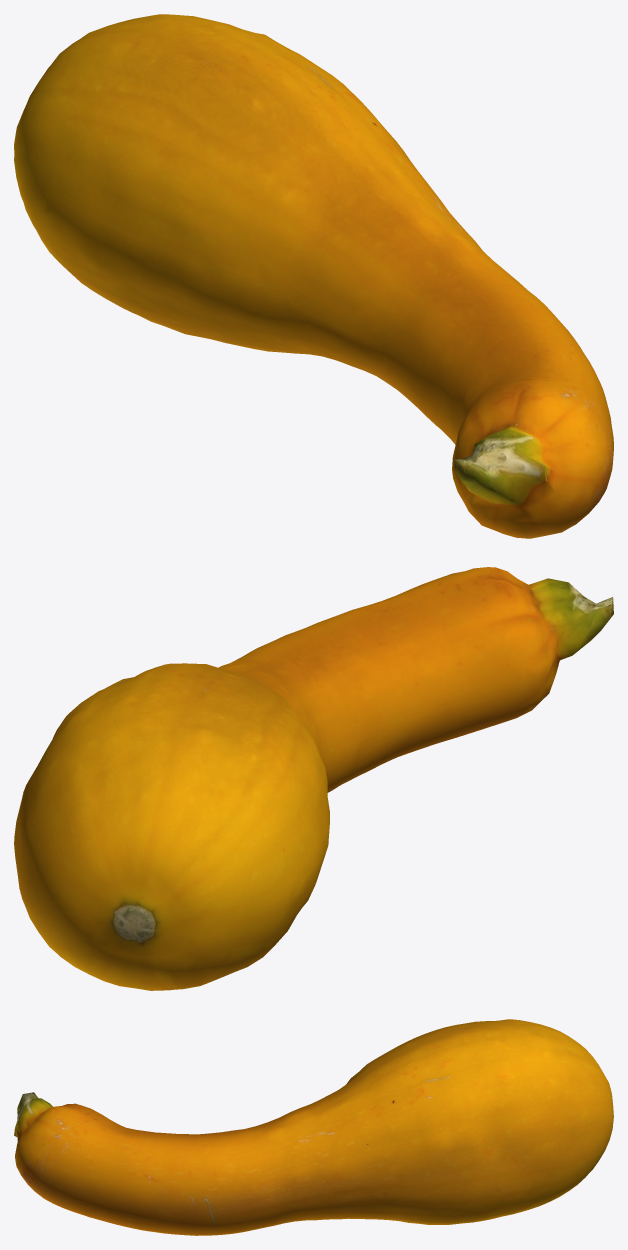
Rendered from yellow_zucchini_SF.obj.
3 views of the same model, one above another, from view 1: azimuth 30°, elevation 25°; view 2: azimuth 150°, elevation 25°; view 3: azimuth 270°, elevation 25° (orthographic). The views are drawn at different scales.
Visible parts, largest first — view 1: Kesakurpitsa_keltainen_retopo; view 2: Kesakurpitsa_keltainen_retopo; view 3: Kesakurpitsa_keltainen_retopo.
Part boxes in pixels (bbox=[...]): Kesakurpitsa_keltainen_retopo: bbox=[14, 14, 613, 538]; Kesakurpitsa_keltainen_retopo: bbox=[14, 567, 613, 990]; Kesakurpitsa_keltainen_retopo: bbox=[14, 1019, 613, 1235].
Bounding box in the file's own units: 0.0547 × 0.0485 × 0.1483.
1 material, 1 textured.
